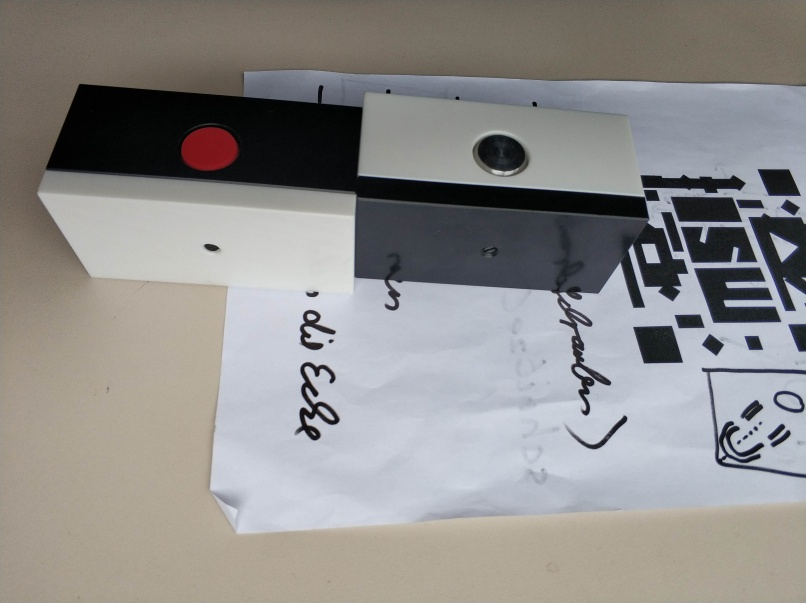black+white+red: (35, 81, 363, 295)
black+white+silver: (356, 90, 651, 295)
